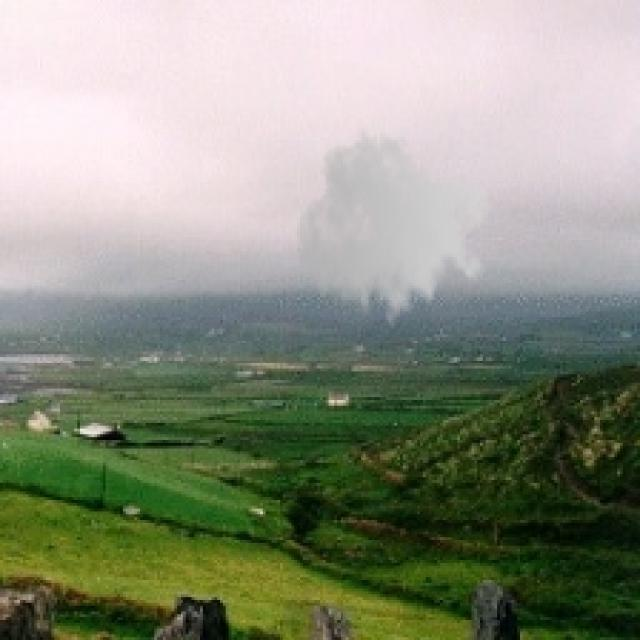smoke: (294, 126, 494, 340)
